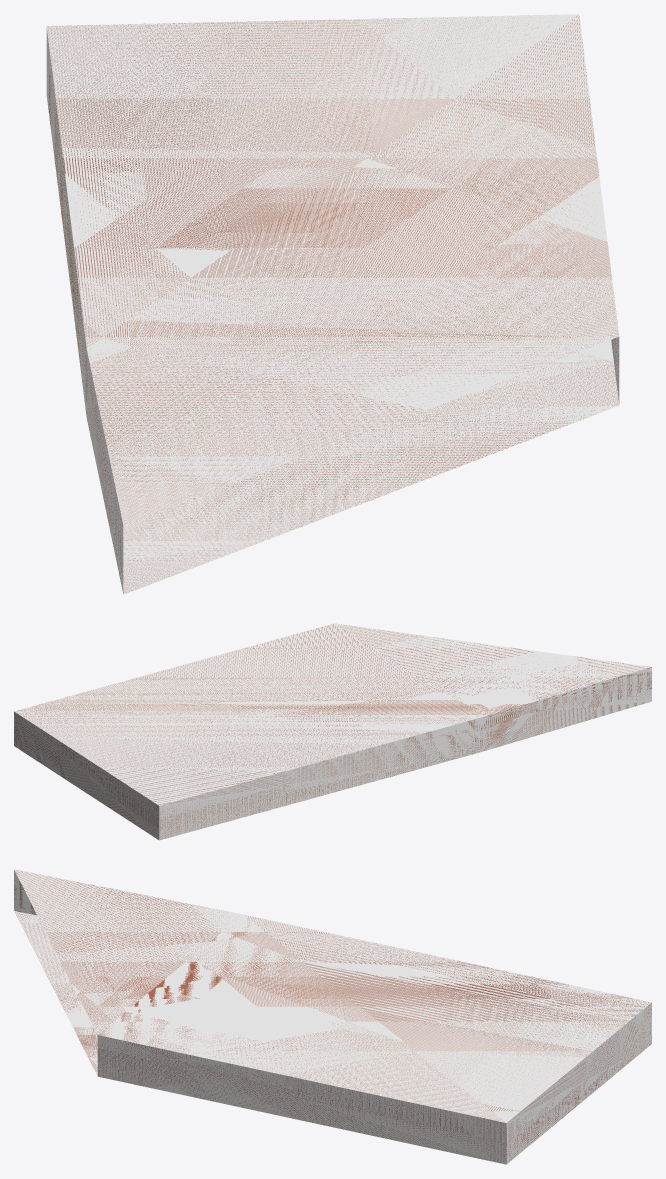
3 renders of one model, top to bottom at view 1: azimuth 30°, elevation 25°; view 2: azimuth 150°, elevation 25°; view 3: azimuth 270°, elevation 25°, orthographic. The views are drawn at different scales.
Size of the model in its own units: 0.2352 by 0.018 by 0.2499.
